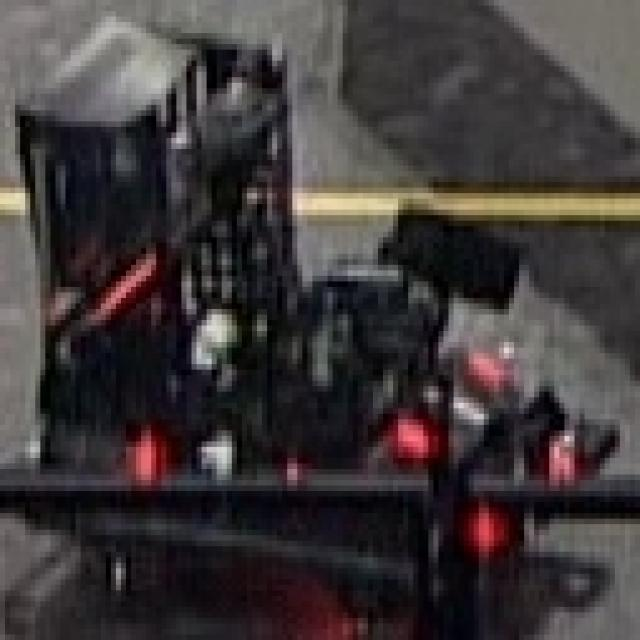R1: (393, 348, 504, 458), (121, 425, 302, 491)
